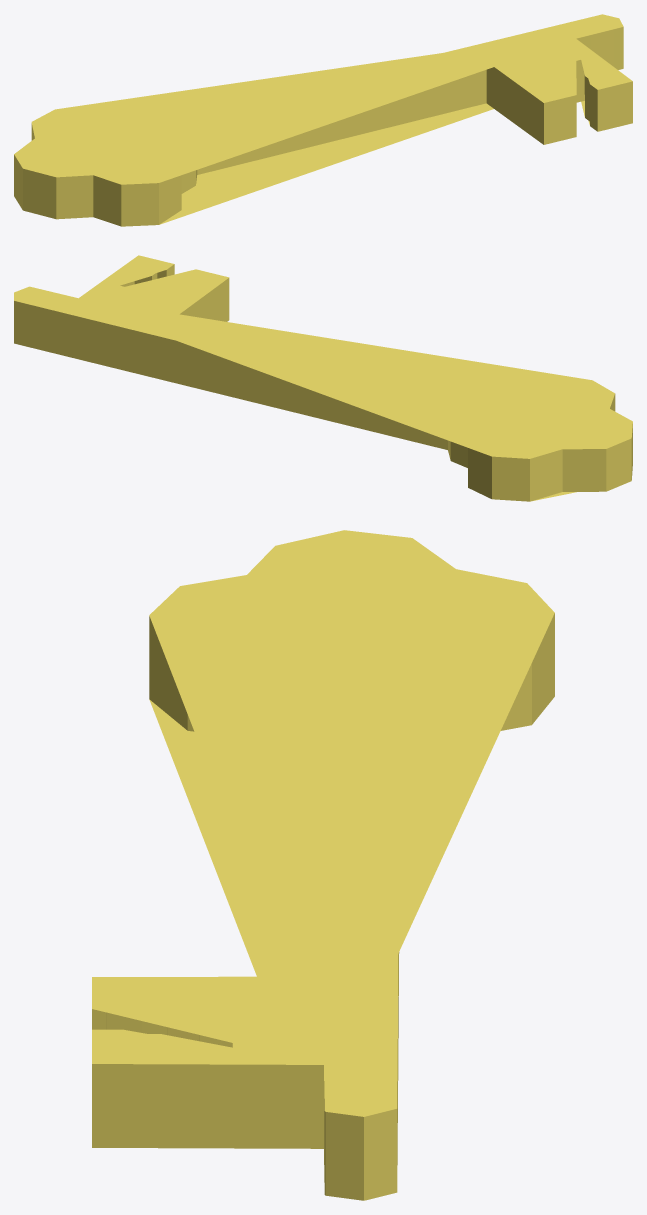
File: chiave.fbx
3 renders of one model, top to bottom at view 1: azimuth 30°, elevation 25°; view 2: azimuth 150°, elevation 25°; view 3: azimuth 270°, elevation 25°, orthographic. The views are drawn at different scales.
Visible parts, largest first — view 1: chiave; view 2: chiave; view 3: chiave.
Boxes of the visible parts, x1,y1,x2,y2 form: chiave: (14, 14, 632, 226); chiave: (14, 255, 632, 501); chiave: (92, 530, 554, 1200).
Bounding box in the file's own units: 15 × 1 × 5.
